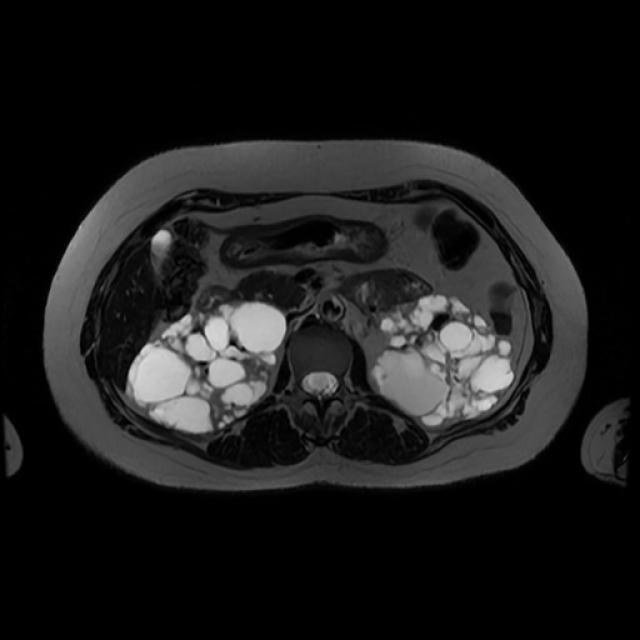sag: (125, 301, 288, 434)
sol: (372, 291, 517, 428)
